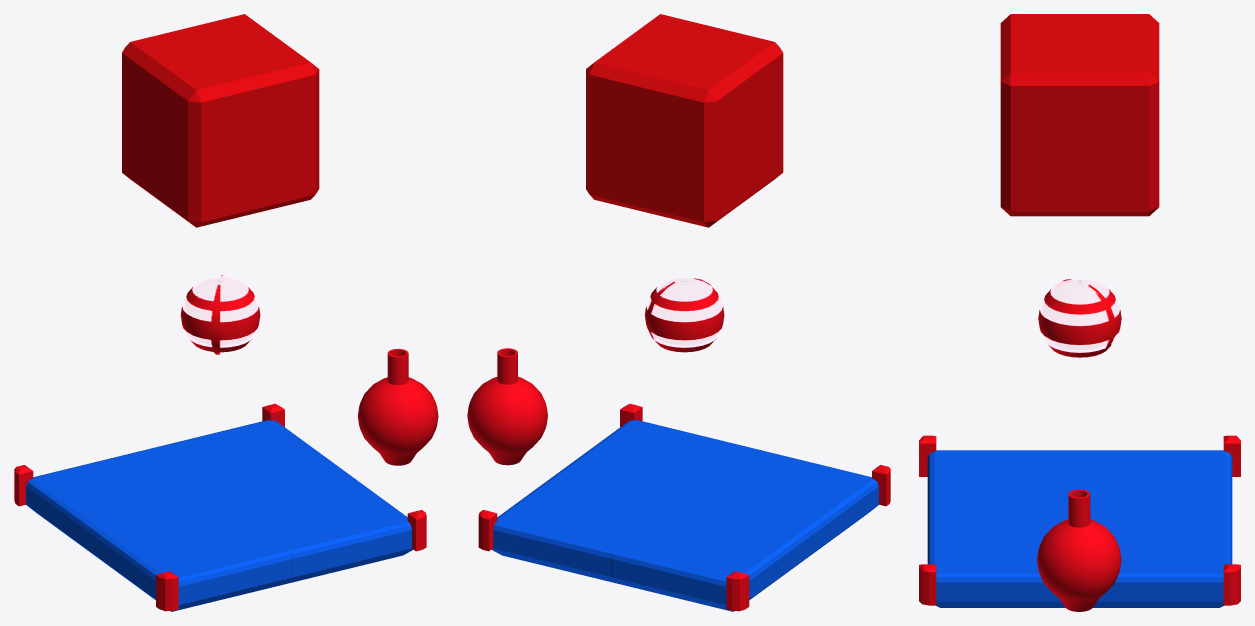
File: brick_breaker_3D_meshes.glb
The picture shows the model from 3 angles, left to right: view 1: azimuth 30°, elevation 25°; view 2: azimuth 150°, elevation 25°; view 3: azimuth 270°, elevation 25°; orthographic projection. The views are drawn at different scales.
Visible parts, largest first — view 1: player, brick, weapon, ball; view 2: player, brick, weapon, ball; view 3: player, brick, weapon, ball.
Part boxes in pixels (bbox=[...]): player: bbox=[14, 403, 426, 611]; brick: bbox=[122, 14, 319, 227]; weapon: bbox=[357, 349, 438, 465]; ball: bbox=[180, 275, 260, 354]; player: bbox=[478, 403, 890, 611]; brick: bbox=[586, 14, 783, 227]; weapon: bbox=[467, 348, 547, 465]; ball: bbox=[645, 277, 724, 352]; player: bbox=[919, 435, 1240, 607]; brick: bbox=[1000, 14, 1159, 216]; weapon: bbox=[1037, 489, 1121, 611]; ball: bbox=[1038, 279, 1121, 358].
Size of the model in its own units: 2.74 by 3.66 by 2.11.
3 materials, 2 textured.
